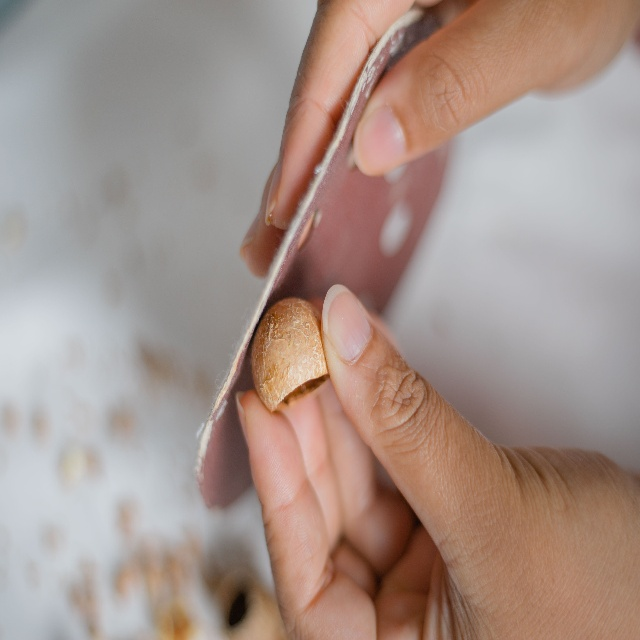Sin_guantes: (236, 284, 640, 640), (239, 0, 640, 284)
